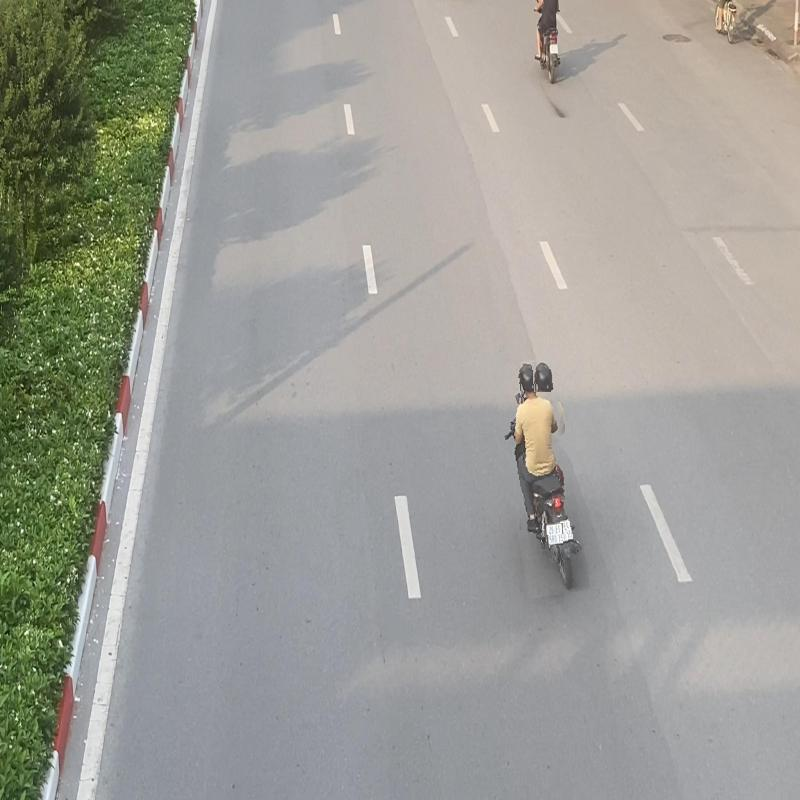helmet: (532, 361, 554, 392)
licenseplate: (546, 523, 563, 545)
motorcyclist: (500, 358, 581, 598)
